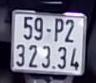2: (64, 18, 76, 44), (28, 43, 40, 69)
3: (56, 45, 68, 70), (41, 44, 52, 69), (16, 43, 26, 68)
4: (70, 46, 82, 71)
5: (23, 16, 34, 41)
9: (33, 15, 44, 42)
P: (53, 17, 64, 44)
